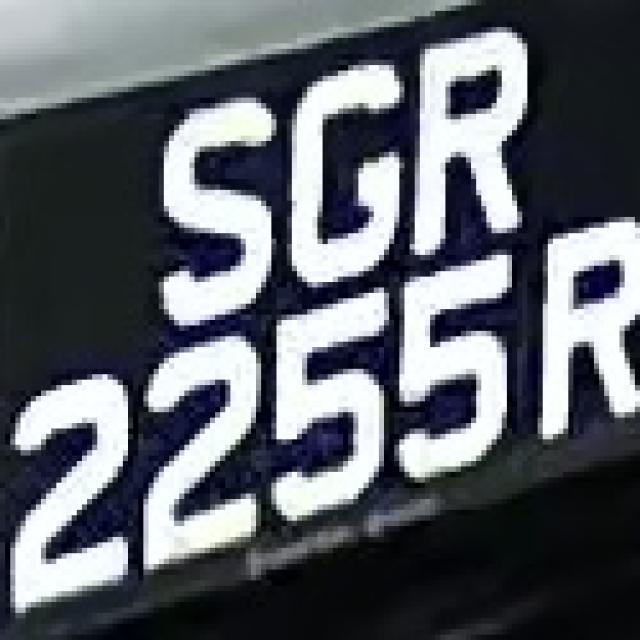2: (133, 320, 282, 575), (10, 374, 148, 629)
5: (256, 287, 384, 537), (404, 250, 532, 482)
G: (272, 65, 409, 288)
R: (404, 11, 532, 249), (517, 222, 630, 445)
S: (138, 71, 292, 320)
